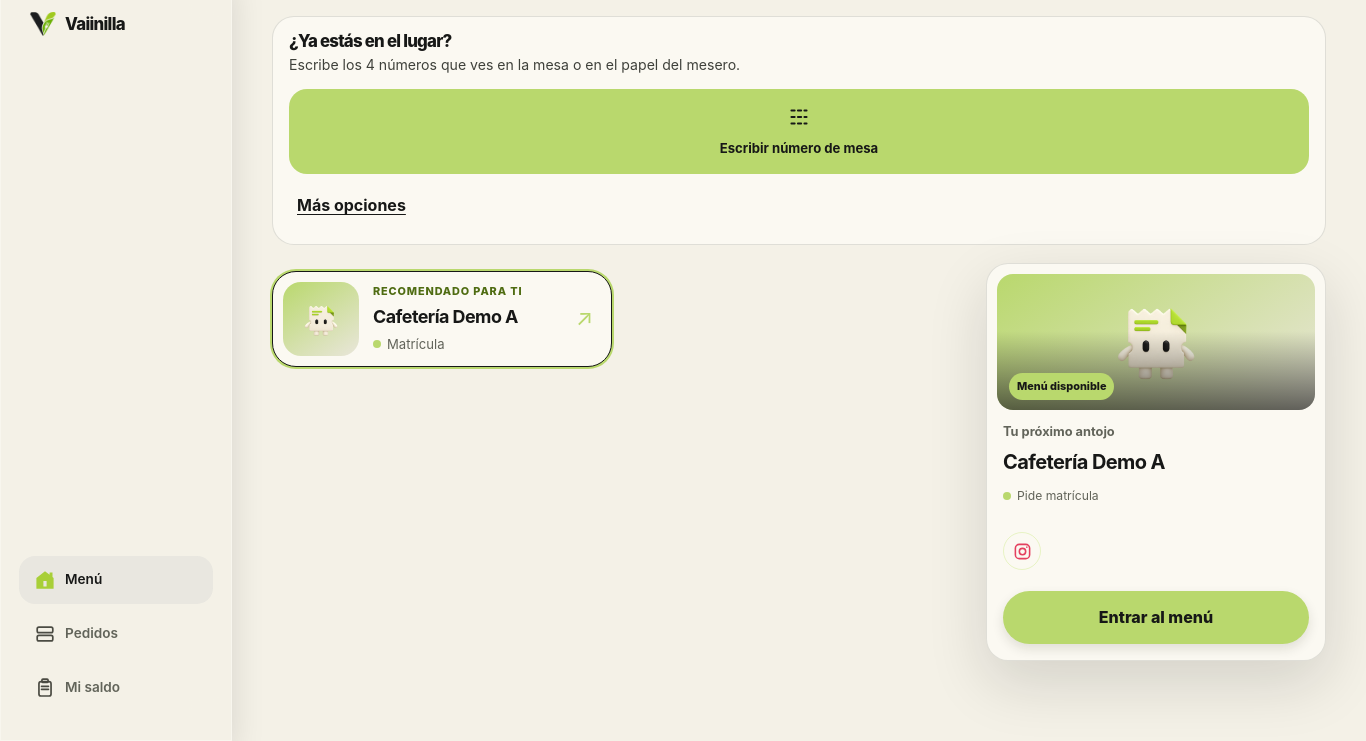
DiscoveryPage › lista establecimientos públicos y deja continuar al menú
(page scrolled)
Expected: the button "Escribir número de mesa" is shown, [289,89,1309,174]
Expected: the button "Más opciones" is shown, [289,184,414,228]
Click the button "Entrar al menú" at x=1156, y=618, box [1003,591,1309,644]
(page scrolled)
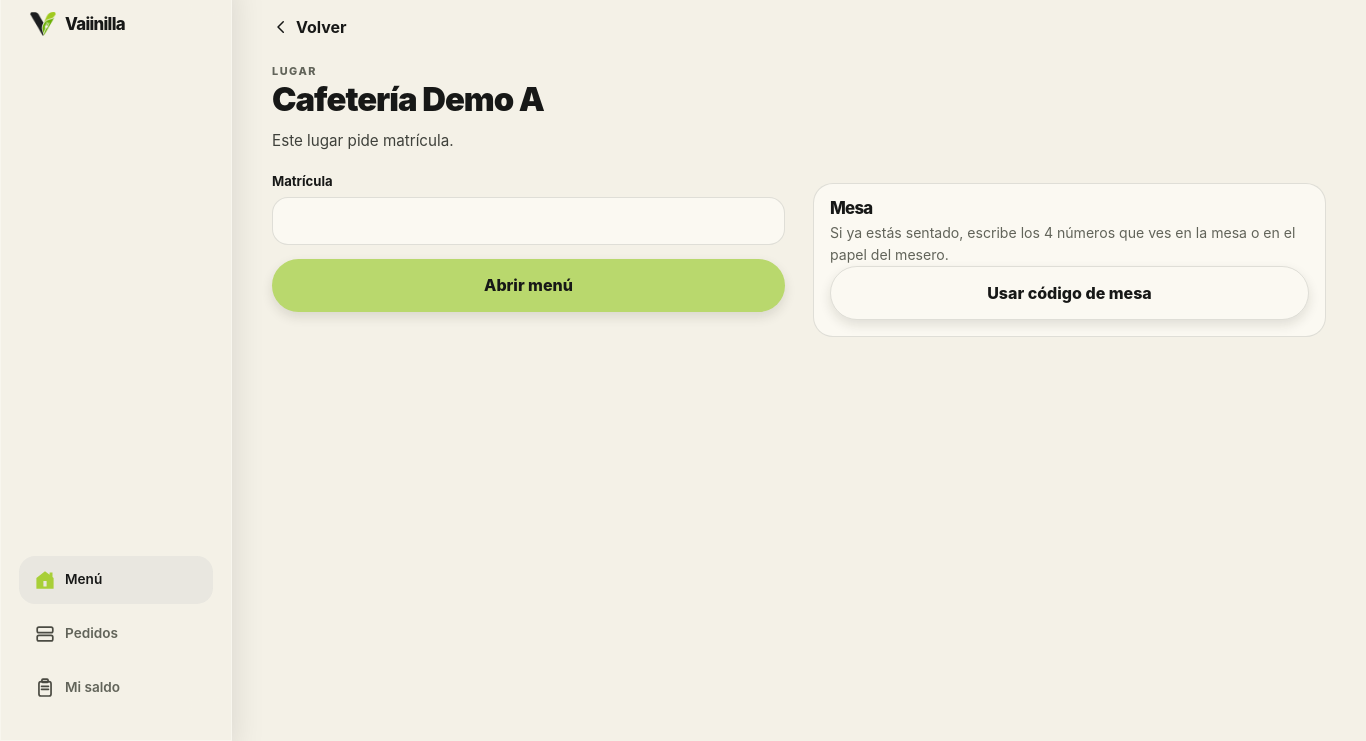
Result: the heading "Cafetería Demo A" is shown at [272,79,544,119]
Result: the button "Usar código de mesa" is shown at [830,266,1309,320]
Result: the button "Abrir menú" is shown at [272,259,785,312]
